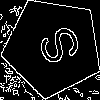S: (27, 22, 84, 73)
